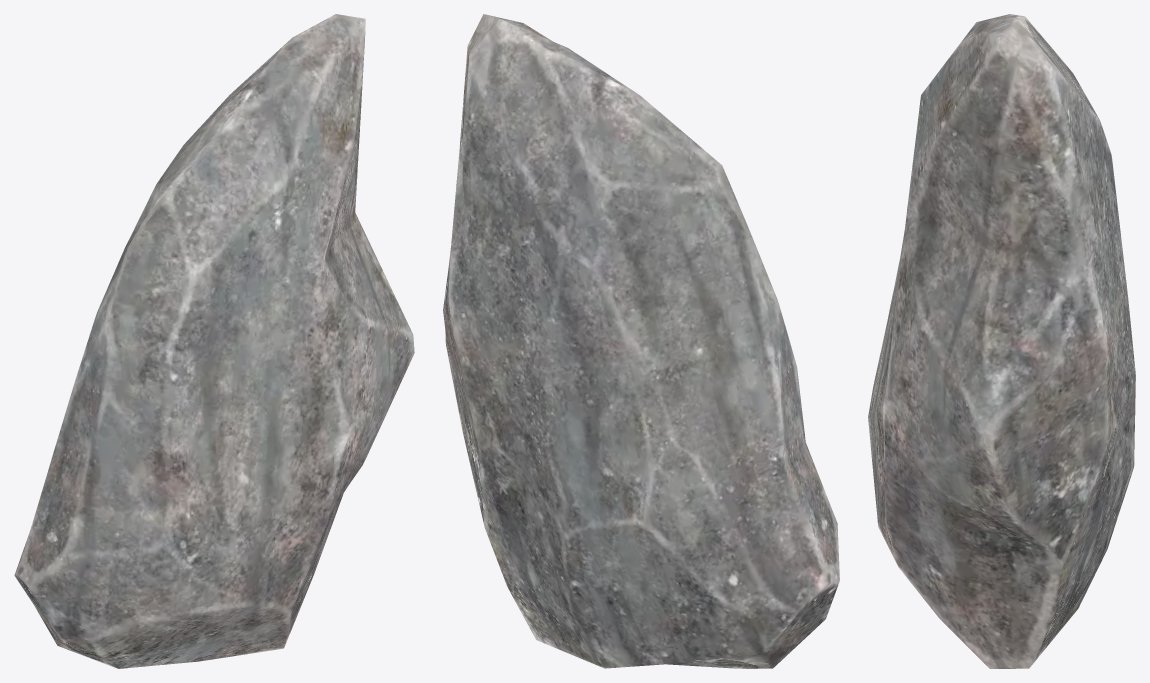
3 renders of one model, left to right at view 1: azimuth 30°, elevation 25°; view 2: azimuth 150°, elevation 25°; view 3: azimuth 270°, elevation 25°, orthographic. The views are drawn at different scales.
Parts seen in each view (by area): view 1: SM_Rune_Essence_01v4_LOD0; view 2: SM_Rune_Essence_01v4_LOD0; view 3: SM_Rune_Essence_01v4_LOD0.
Part boxes in pixels (bbox=[...]): SM_Rune_Essence_01v4_LOD0: bbox=[14, 14, 414, 668]; SM_Rune_Essence_01v4_LOD0: bbox=[443, 14, 839, 668]; SM_Rune_Essence_01v4_LOD0: bbox=[868, 14, 1135, 668].
Bounding box in the file's own units: 0.9152 × 1.38 × 0.4887.
Materials: 1 (1 with a texture image).
